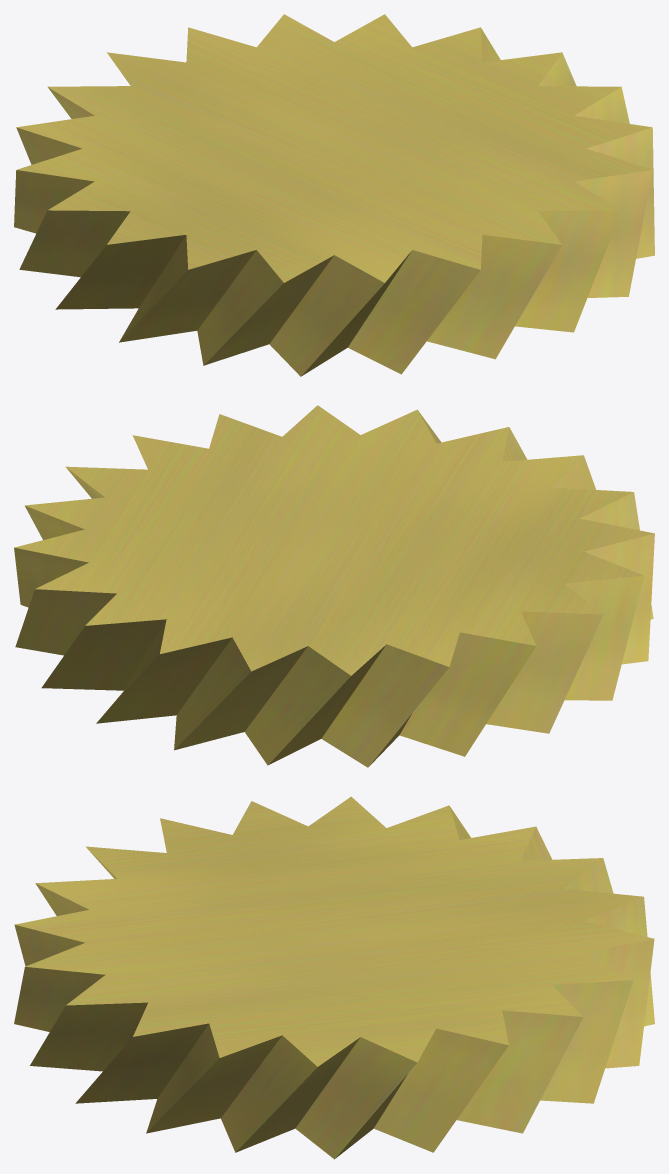
File: ClockStraightSpiral020.fbx
The picture shows the model from 3 angles, top to bottom: view 1: azimuth 30°, elevation 25°; view 2: azimuth 150°, elevation 25°; view 3: azimuth 270°, elevation 25°; orthographic projection.
Visible parts, largest first — view 1: ClockStraightSpiral020; view 2: ClockStraightSpiral020; view 3: ClockStraightSpiral020.
Boxes of the visible parts, x1,y1,x2,y2 form: ClockStraightSpiral020: [14, 14, 654, 376]; ClockStraightSpiral020: [14, 405, 654, 767]; ClockStraightSpiral020: [14, 796, 654, 1159].
Size of the model in its own units: 124 by 19.69 by 124.
